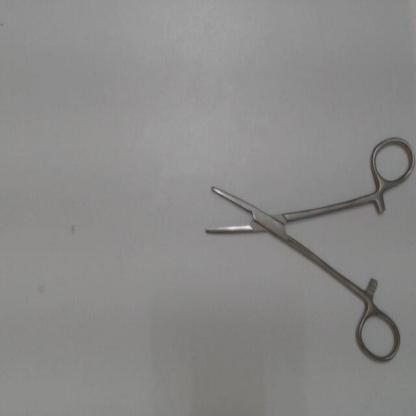Mayo Needle Holder: (192, 130, 416, 372)
